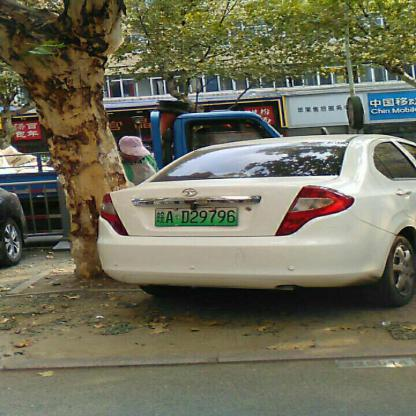lp: (154, 207, 238, 225)
